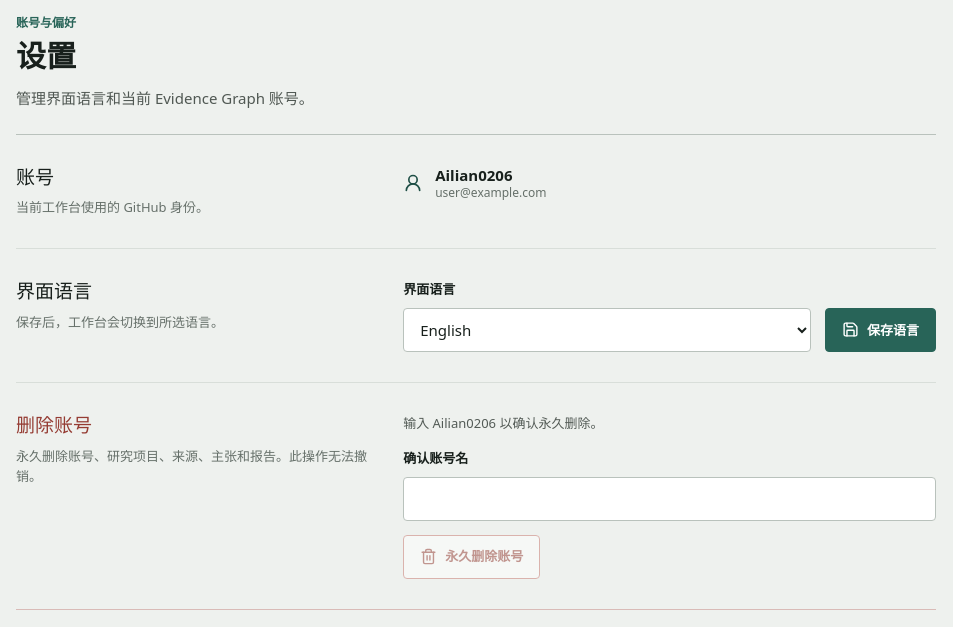
Test: account settings UI › shows account identity, saved language, and a gated danger action
The image size is (953, 627).
expect the heading "设置" is shown: met, box [16,35,76,76]
expect the text "Ailian0206" is shown: met, box [435,165,512,185]
In the field labelled "确认账号名": {"x": 670, "y": 499} [403,477,936,521], type "Ailian"
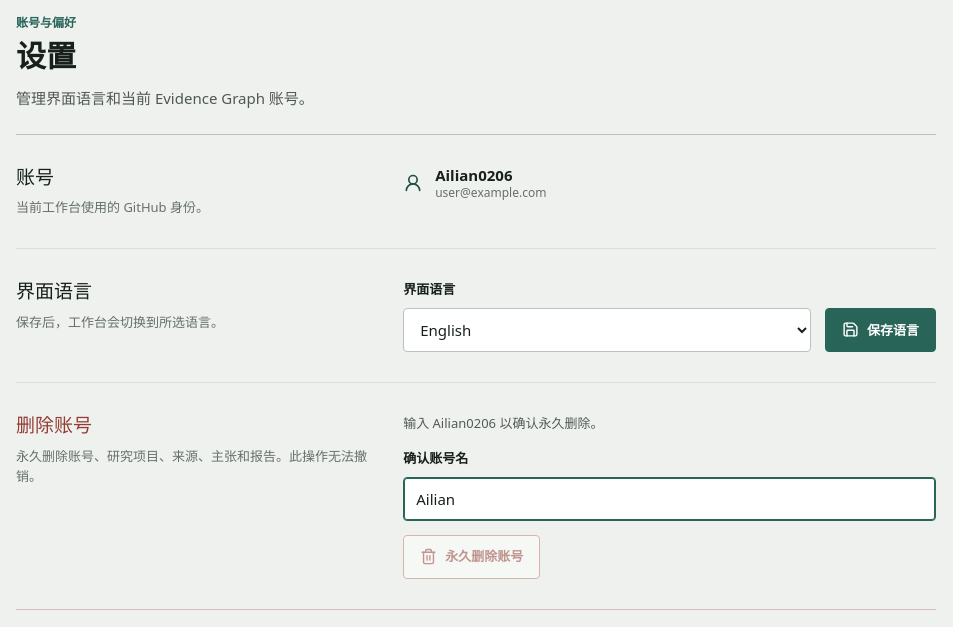
expect the button "永久删除账号" is disabled: met, box [403,535,540,579]
Replace the text in the field labelled "确认账号名" with "Ailian0206": {"x": 670, "y": 499} [403,477,936,521]
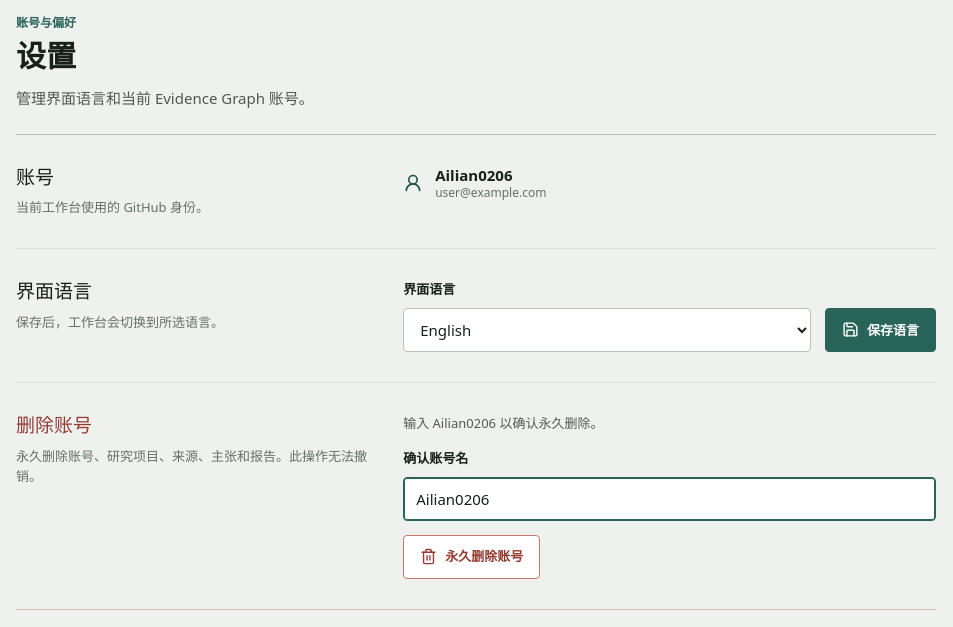
expect the button "永久删除账号" is enabled: met, box [403,535,540,579]
